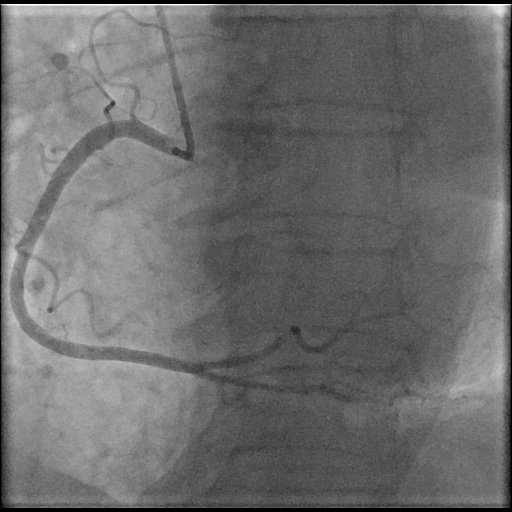RCA: (8, 118, 346, 392)
catherter: (155, 5, 195, 151)
